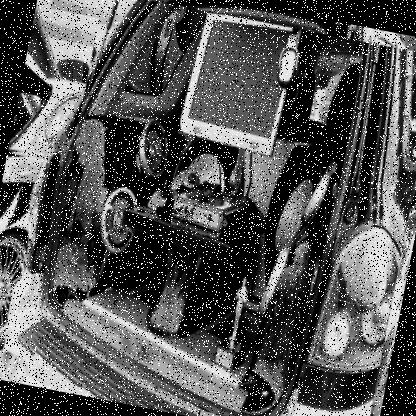Car: (0, 0, 415, 415), (0, 5, 99, 361)
